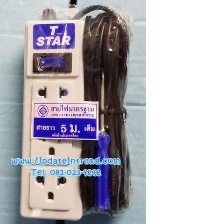three_eye_plug: (14, 15, 95, 224)
